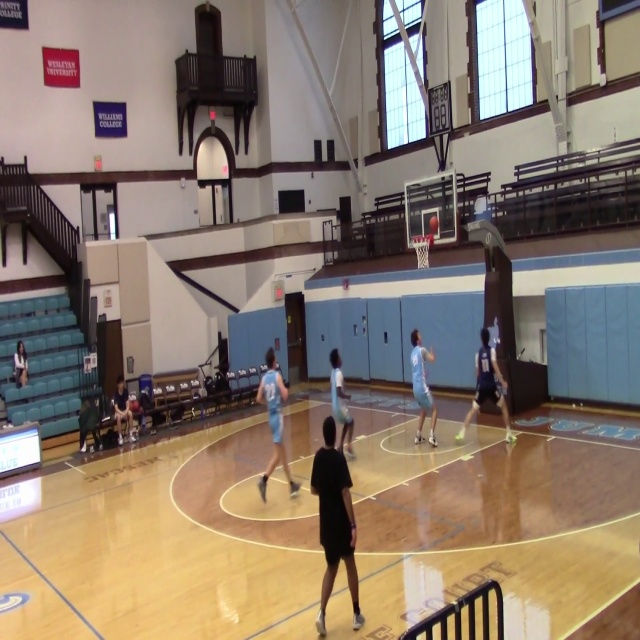Basketball: (429, 216, 439, 232), (129, 400, 140, 412), (455, 433, 464, 442)
